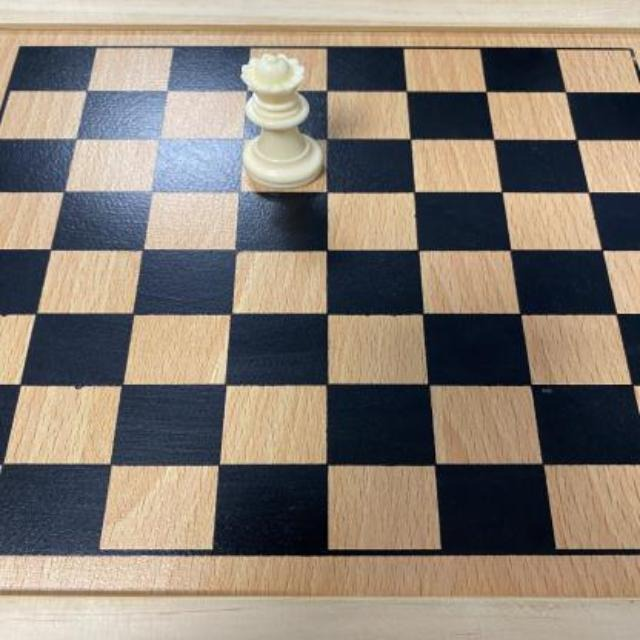white-queen: (238, 51, 325, 191)
